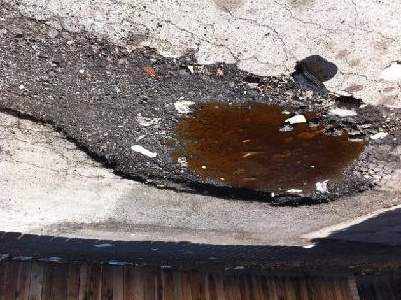pothole: (47, 17, 386, 210)
